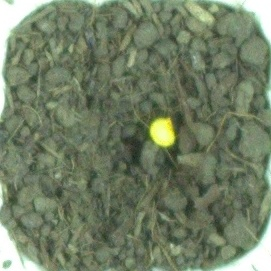chilli seed: (146, 116, 179, 149)
